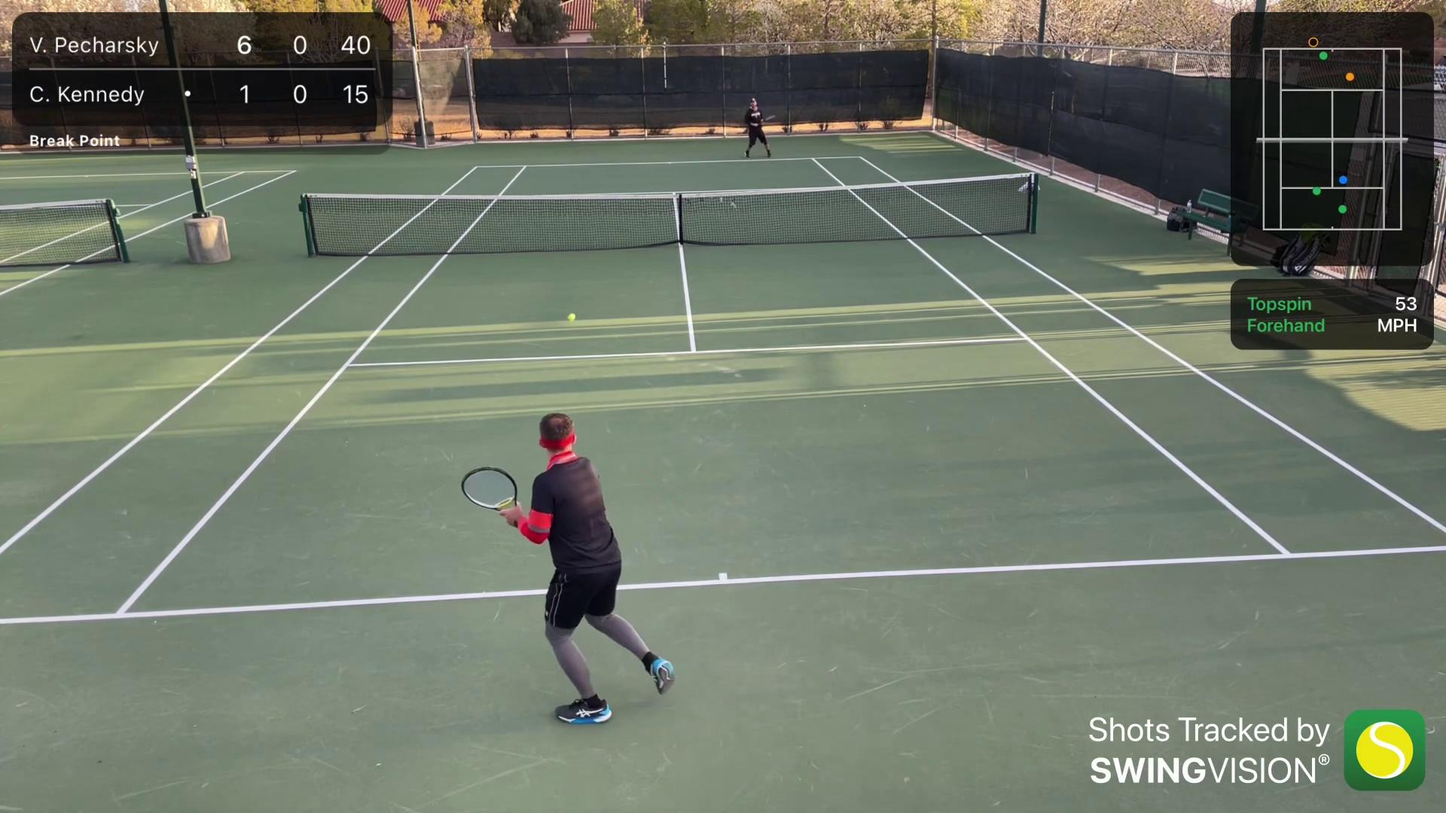ball: (564, 311, 580, 323)
